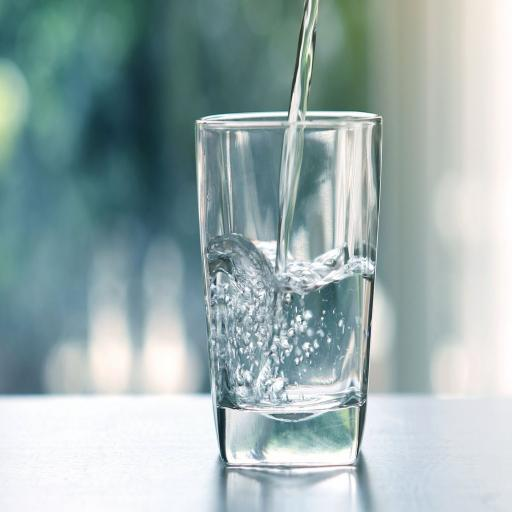cup: (196, 112, 381, 466)
